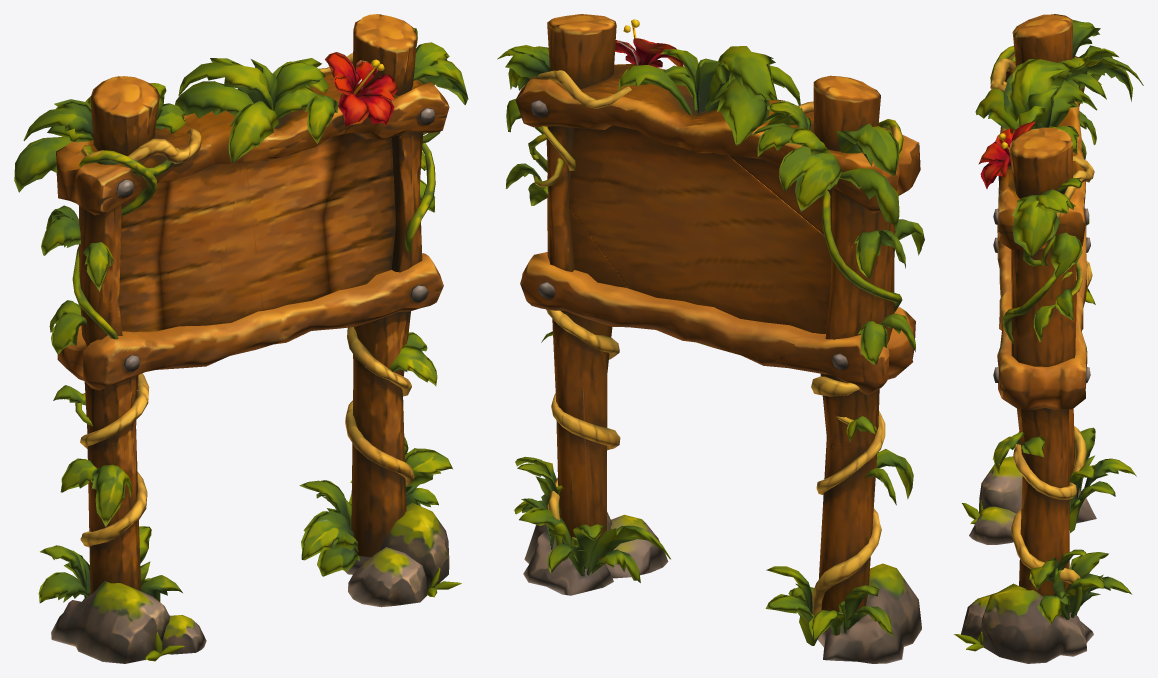
File: letrero.fbx
3 views of the same model, side by side, from view 1: azimuth 30°, elevation 25°; view 2: azimuth 150°, elevation 25°; view 3: azimuth 270°, elevation 25° (orthographic). The views are drawn at different scales.
Visible parts, largest first — view 1: geometry_0; view 2: geometry_0; view 3: geometry_0.
Part boxes in pixels (x1=…): geometry_0: x1=14, y1=14, x2=468, y2=663; geometry_0: x1=497, y1=14, x2=924, y2=663; geometry_0: x1=954, y1=14, x2=1143, y2=663.
Size of the model in its own units: 75.83 by 95.46 by 32.57.
Materials: 1 (1 with a texture image).
